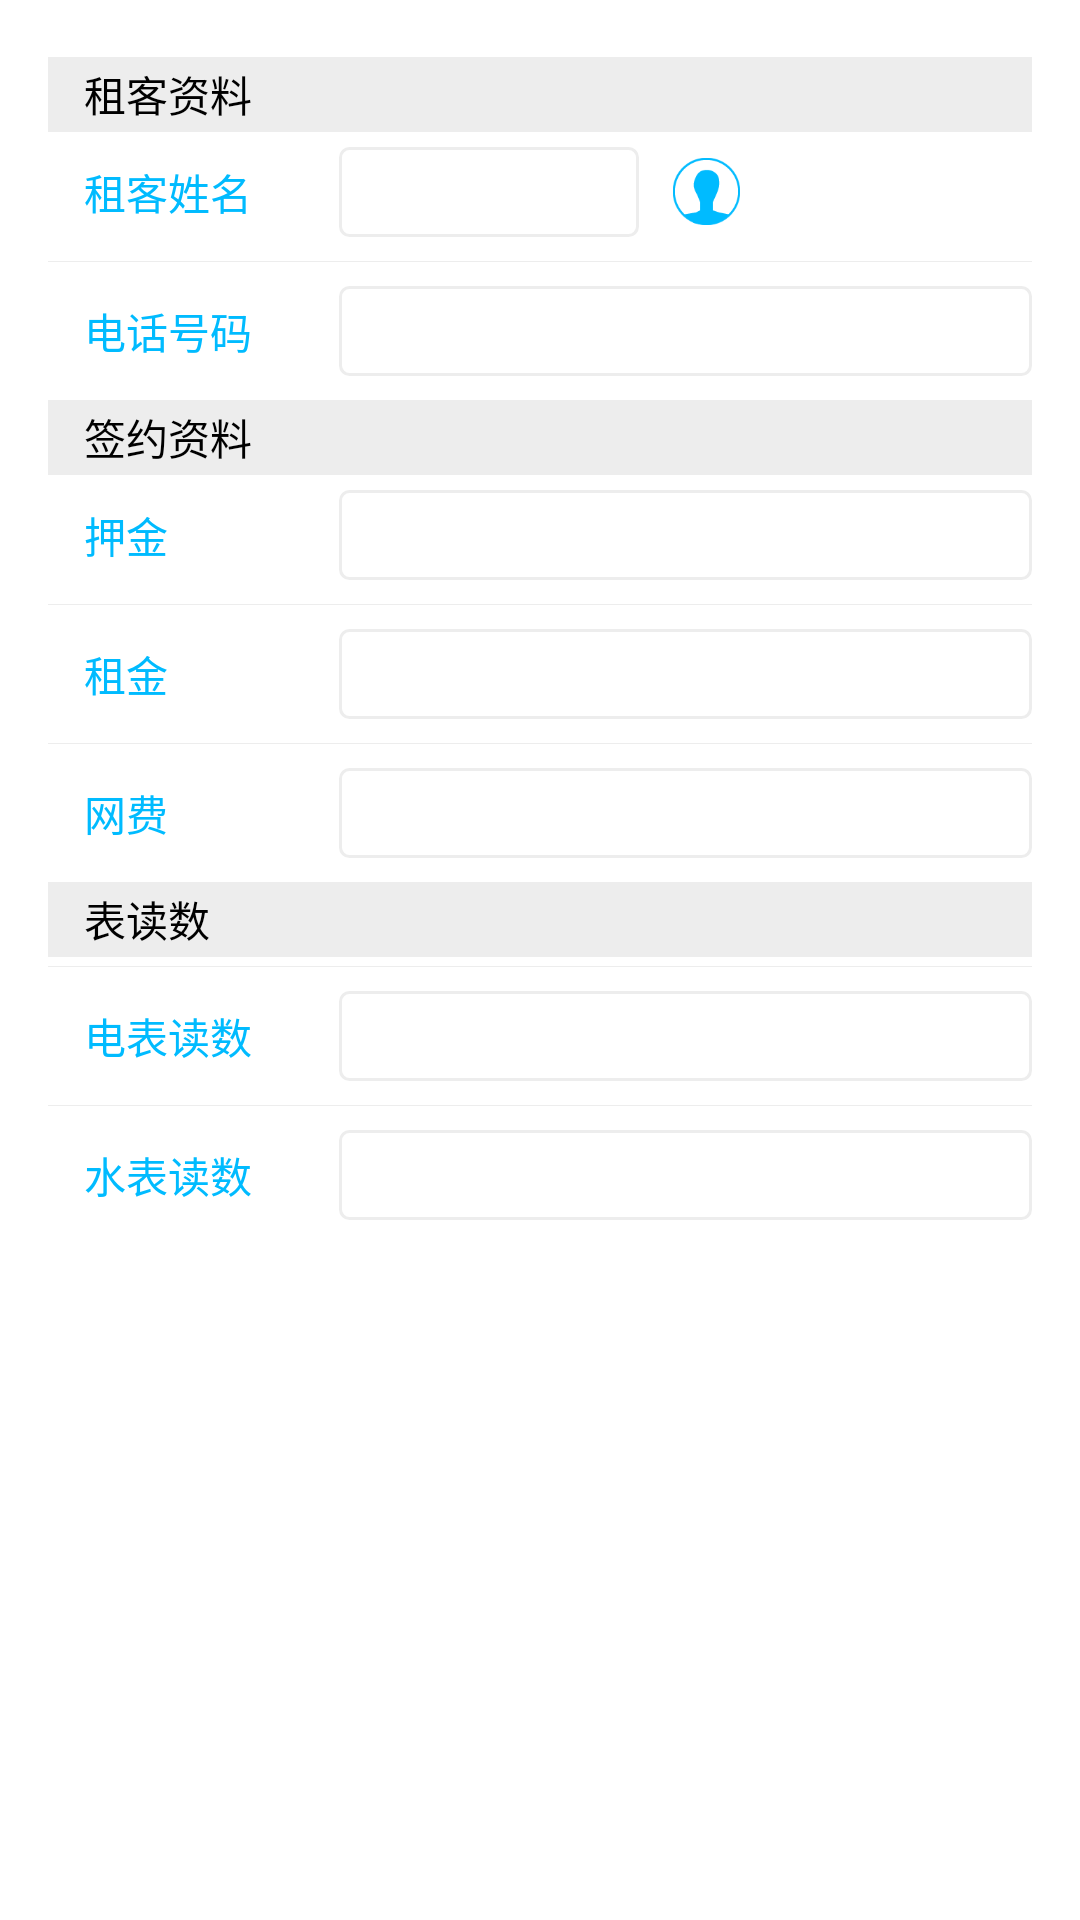

Icon click points for this 1080*1920 phone screenshot, format (x=x, y=y):
phone book: (x=706, y=191)
